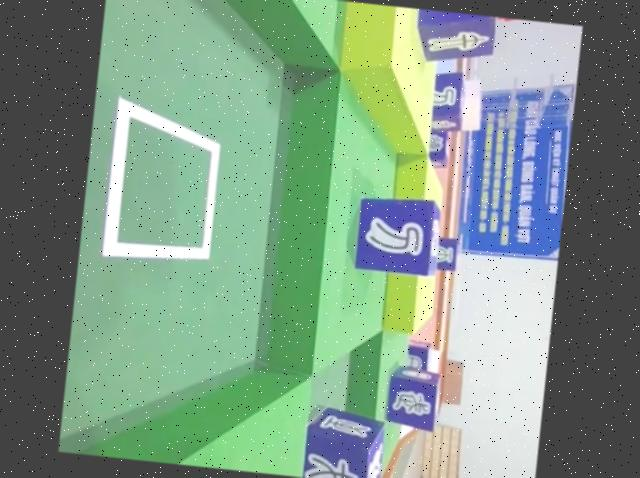R2 Fake Blue: (350, 191, 442, 279), (302, 405, 389, 478), (411, 9, 497, 68), (382, 366, 444, 433), (428, 69, 470, 135), (404, 338, 434, 372), (426, 131, 451, 171)
